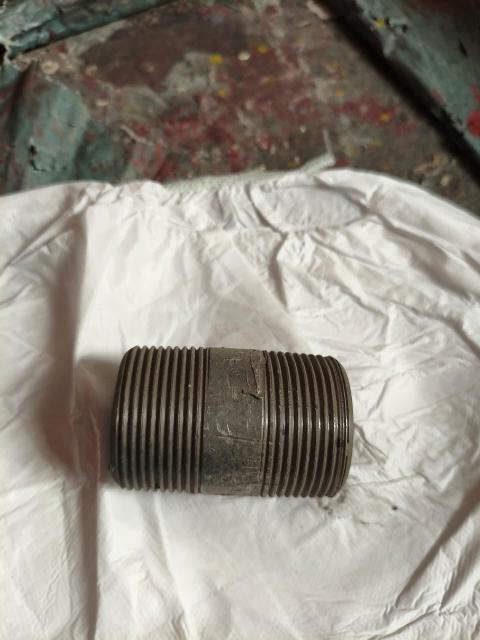Metal: (110, 337, 355, 495)
